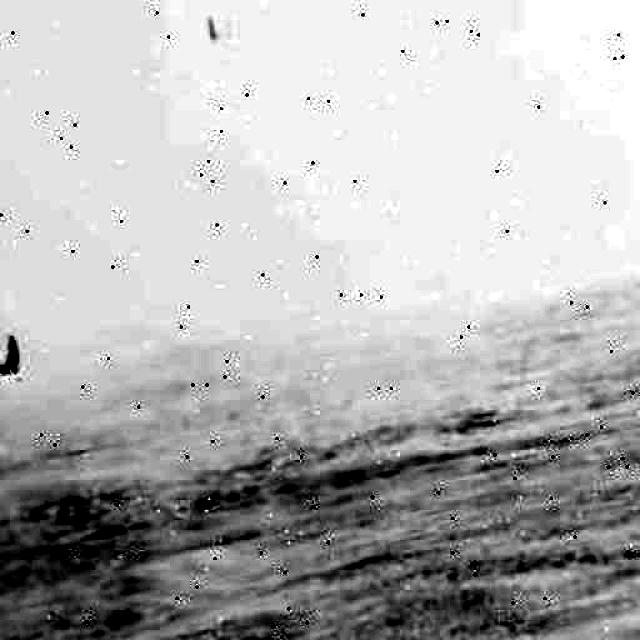airplane: (0, 332, 29, 385), (206, 16, 230, 46)
